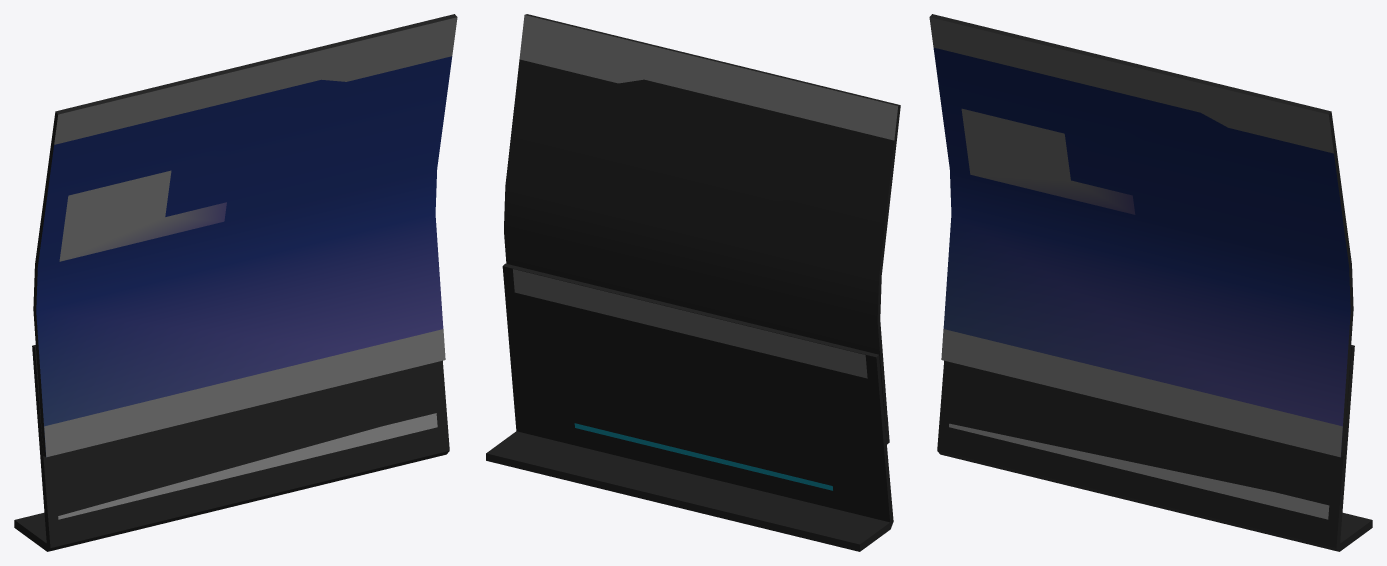
File: W_O_Wall_002_L3.fbx
The picture shows the model from 3 angles, left to right: view 1: azimuth 30°, elevation 25°; view 2: azimuth 150°, elevation 25°; view 3: azimuth 330°, elevation 25°; orthographic projection. The views are drawn at different scales.
Parts seen in each view (by area): view 1: W_O_Wall_002_L3; view 2: W_O_Wall_002_L3; view 3: W_O_Wall_002_L3.
Part boxes in pixels (left/top/right/bottom): W_O_Wall_002_L3: left=14, top=14, right=457, bottom=551; W_O_Wall_002_L3: left=486, top=14, right=900, bottom=551; W_O_Wall_002_L3: left=929, top=14, right=1372, bottom=551.
Size of the model in its own units: 5 by 5.35 by 0.9498.
